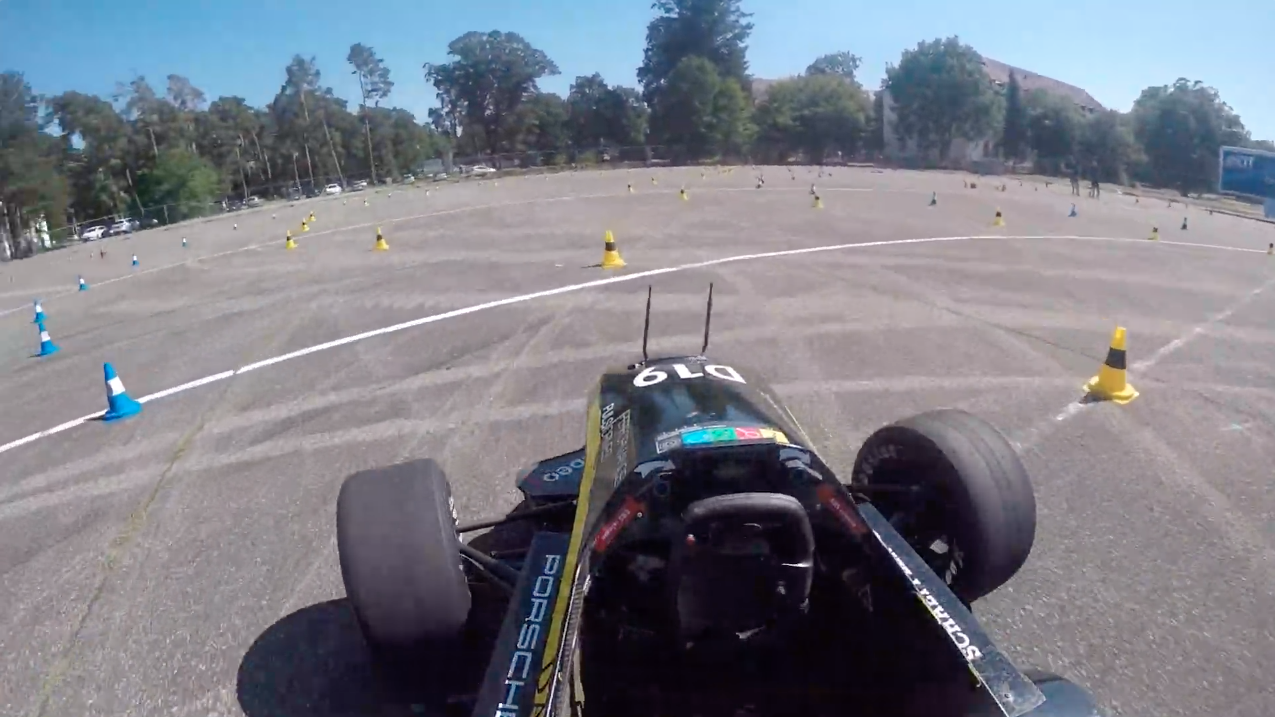lcone: (96, 363, 144, 425), (29, 319, 64, 363), (30, 297, 50, 323)
rcone: (1076, 320, 1149, 410), (597, 227, 632, 273), (370, 224, 391, 254)
